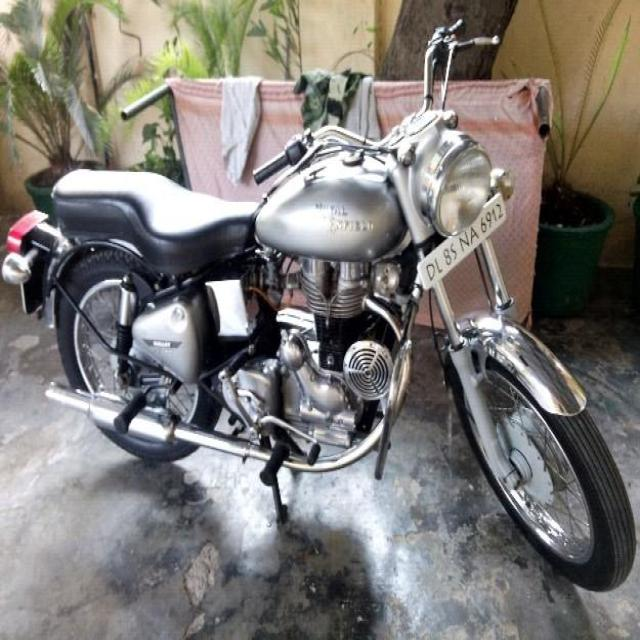plate: (418, 191, 507, 290)
